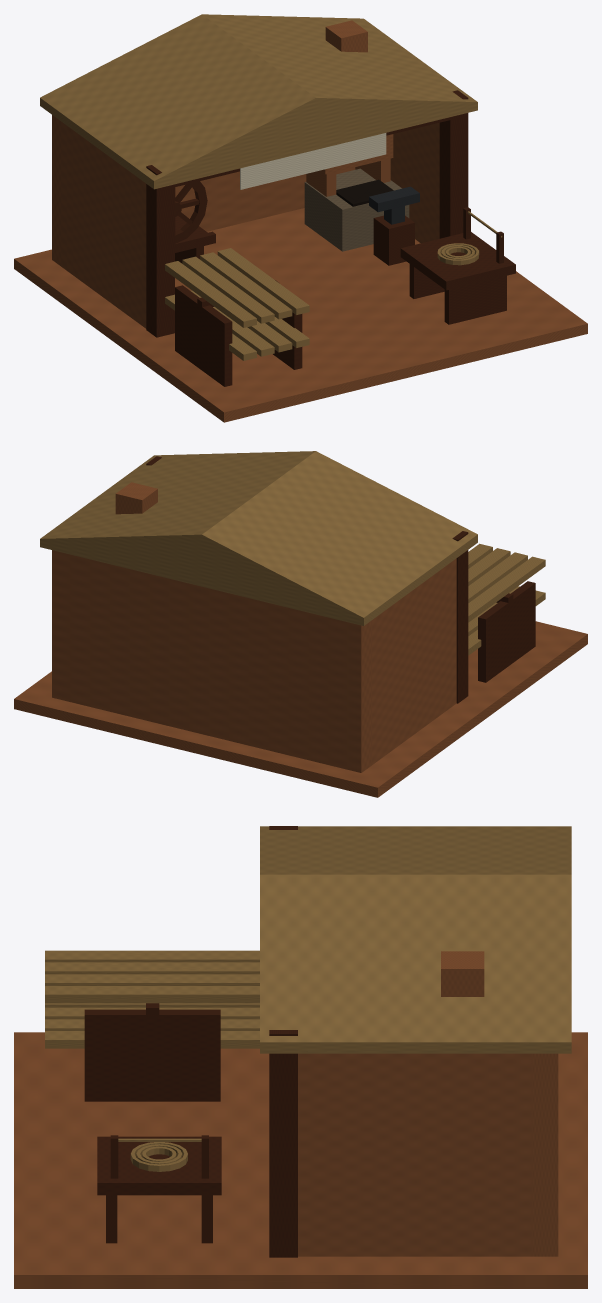
The model's file is Berber_Siege_Age3.fbx.
3 views of the same model, one above another, from view 1: azimuth 30°, elevation 25°; view 2: azimuth 150°, elevation 25°; view 3: azimuth 270°, elevation 25° (orthographic). The views are drawn at different scales.
Visible parts, largest first — view 1: pitched_engineering_shelter, yard_foundation, west_hall_wall, rear_engineering_wall, east_hall_wall, west_portal_pier, timber_rack_leg, forge_hearth, rope_bench, east_portal_pier, portal_owner_neutral_stripe, rope_bench_trestle (+17 smaller); view 2: rear_engineering_wall, pitched_engineering_shelter, yard_foundation, west_hall_wall, timber_rack_leg, west_portal_pier, seasoned_lumber.004, forge_chimney, seasoned_lumber.005, seasoned_lumber.006; view 3: pitched_engineering_shelter, yard_foundation, east_hall_wall, timber_rack_leg.001, east_portal_pier, rear_engineering_wall, rope_bench, seasoned_lumber.007, seasoned_lumber.004, seasoned_lumber.005, seasoned_lumber.006, forge_chimney (+5 smaller).
Part boxes in pixels (x1,y1,x2,y2): pitched_engineering_shelter: (40,14,477,189); yard_foundation: (14,208,587,422); west_hall_wall: (61,122,146,328); rear_engineering_wall: (52,115,355,266); east_hall_wall: (355,122,439,243); west_portal_pier: (146,184,174,337); timber_rack_leg: (175,285,232,386); forge_hearth: (304,168,409,251); rope_bench: (400,232,515,290); east_portal_pier: (439,113,468,238); portal_owner_neutral_stripe: (240,133,386,189); rope_bench_trestle: (444,275,506,324); rear_engineering_wall: (52,550,371,772); pitched_engineering_shelter: (40,451,477,625); yard_foundation: (14,621,587,797); west_hall_wall: (371,558,456,765); timber_rack_leg: (478,581,535,682); west_portal_pier: (456,550,468,703); seasoned_lumber.004: (468,556,545,622); forge_chimney: (115,482,157,514); seasoned_lumber.005: (468,552,527,602); seasoned_lumber.006: (468,548,510,585); pitched_engineering_shelter: (260,826,571,1053); yard_foundation: (14,1032,587,1288); east_hall_wall: (298,1053,532,1256); timber_rack_leg.001: (84,1009,220,1101); east_portal_pier: (269,1053,297,1257); rear_engineering_wall: (531,1053,558,1256); rope_bench: (97,1136,221,1195); seasoned_lumber.007: (45,986,259,1003); seasoned_lumber.004: (45,950,259,962); seasoned_lumber.005: (45,962,259,974); seasoned_lumber.006: (45,974,259,985); forge_chimney: (441,951,484,996).
Bounding box in the file's own units: 600 × 338 × 600.
7 materials, 7 textured.
